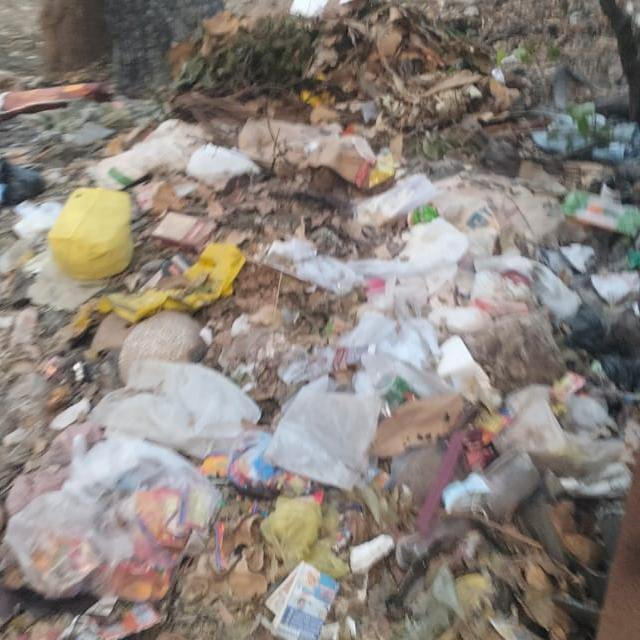plastic: (0, 428, 216, 608), (11, 156, 152, 300), (266, 366, 400, 500), (549, 178, 640, 252), (166, 225, 246, 308)
